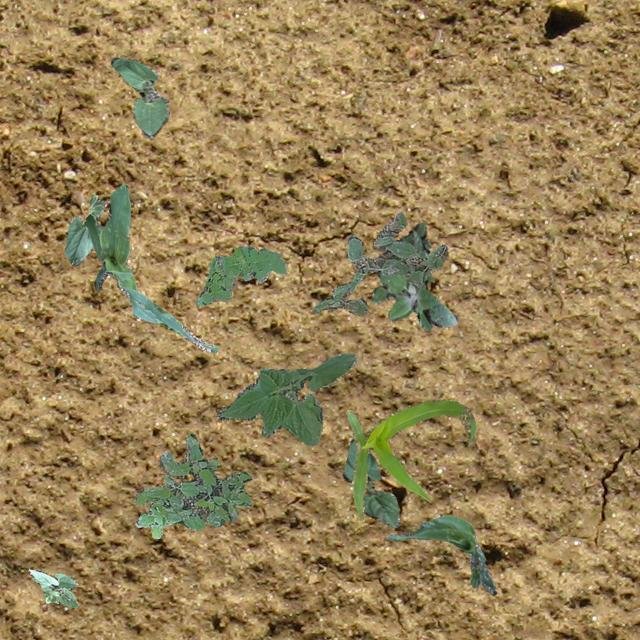crop: (82, 182, 218, 352), (344, 398, 474, 520), (217, 352, 356, 444), (386, 514, 496, 594), (342, 438, 399, 526), (110, 56, 168, 136), (64, 194, 105, 266), (27, 568, 78, 606)
weed: (310, 212, 446, 314), (134, 432, 252, 538), (371, 222, 456, 330), (194, 246, 286, 306)
